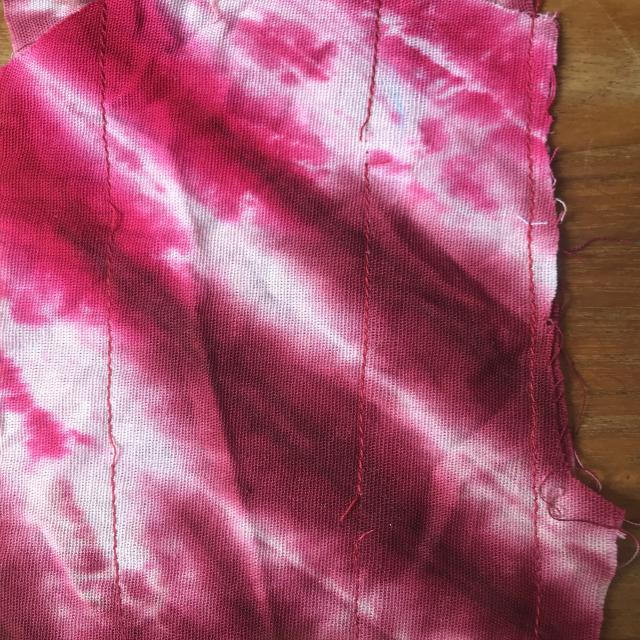broken: (341, 110, 402, 188), (332, 475, 386, 555)
good: (91, 62, 121, 130)
skip: (98, 418, 142, 488), (92, 181, 140, 241)
